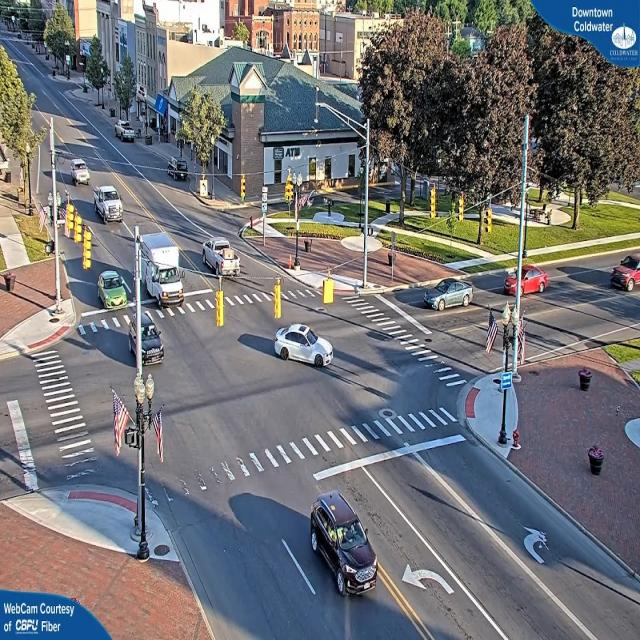car: (308, 494, 379, 600), (274, 324, 332, 369), (127, 313, 168, 364), (421, 276, 474, 310), (203, 236, 240, 280), (503, 266, 546, 298), (99, 270, 133, 308), (93, 184, 124, 224), (612, 254, 640, 293), (586, 443, 606, 475), (70, 158, 90, 186), (164, 159, 190, 180), (116, 123, 136, 143)
truck: (140, 232, 186, 312)
